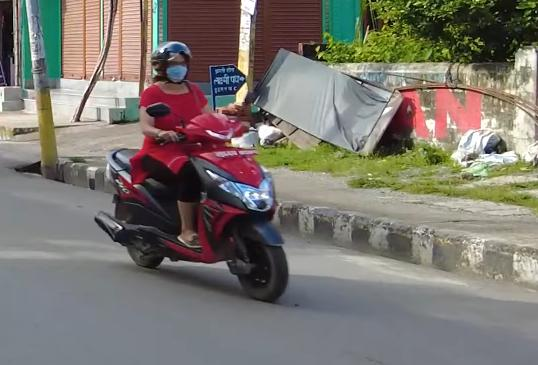scooter: (91, 100, 300, 305)
